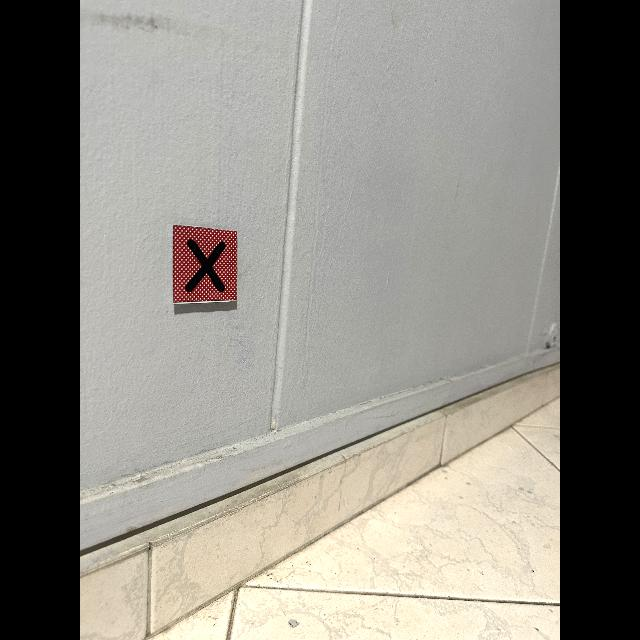X: (185, 239, 226, 292)
